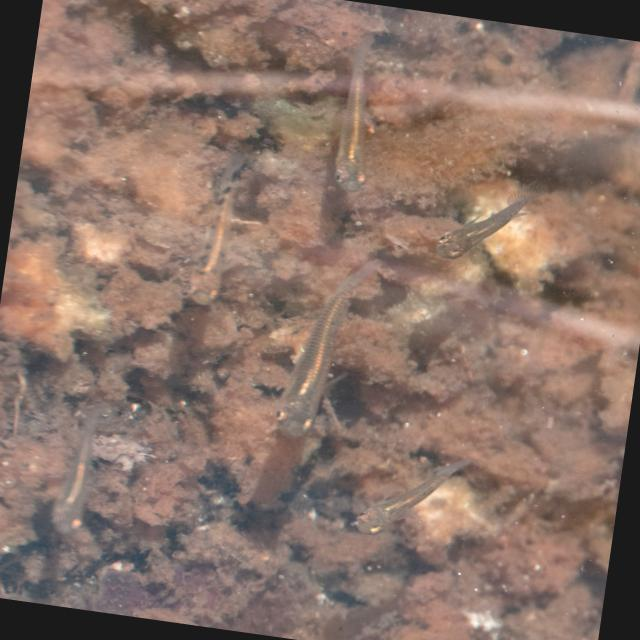Sivrisinek Baligi: (269, 246, 386, 448), (178, 121, 282, 301), (344, 430, 477, 559), (318, 31, 404, 198), (432, 165, 551, 275)
